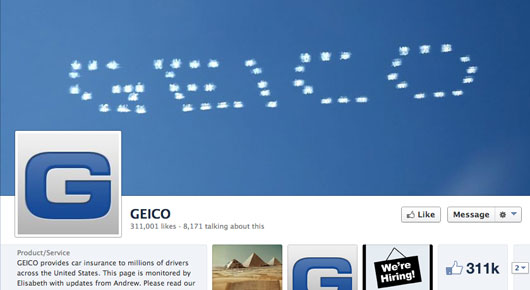Geico: (61, 37, 485, 119)
geico: (130, 206, 177, 223)
